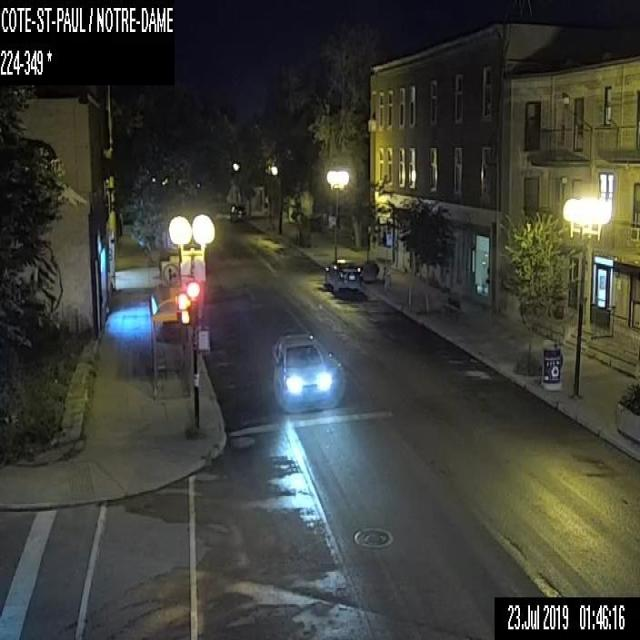vehicle: (270, 334, 332, 408), (323, 260, 364, 294), (229, 203, 247, 221)
